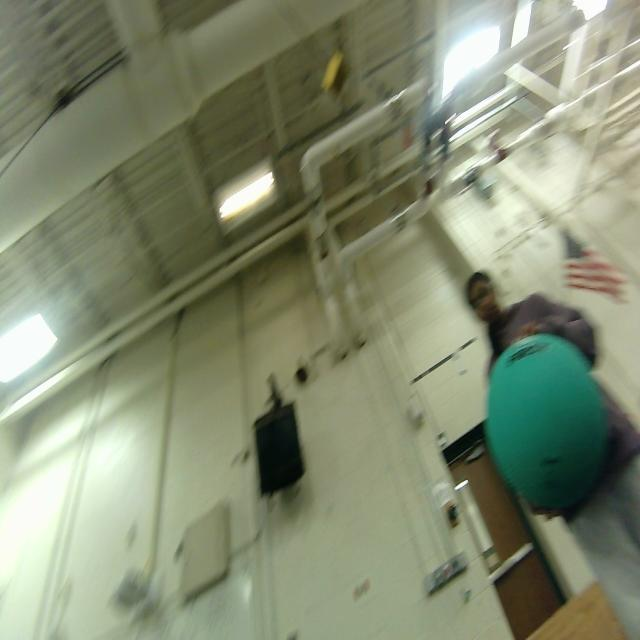algae: (485, 334, 615, 522)
